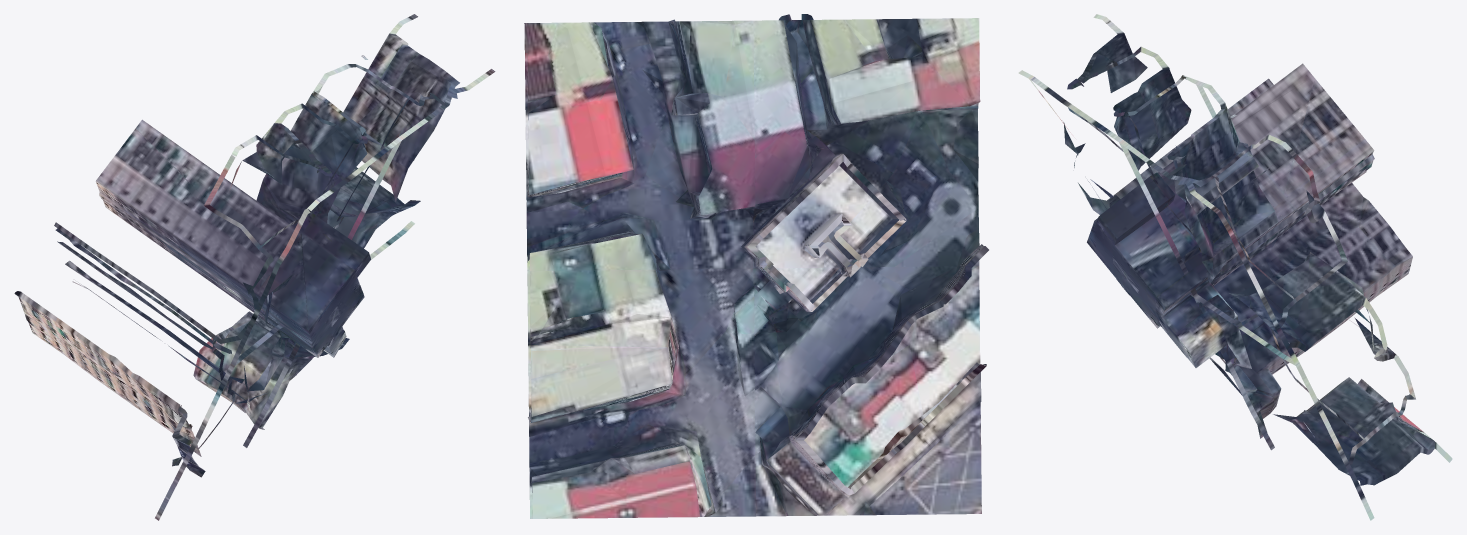
3 renders of one model, left to right at view 1: azimuth 30°, elevation 25°; view 2: azimuth 150°, elevation 25°; view 3: azimuth 270°, elevation 25°, orthographic. The views are drawn at different scales.
Size of the model in its own units: 91.54 by 77.47 by 78.21.
2 materials, 2 textured.
